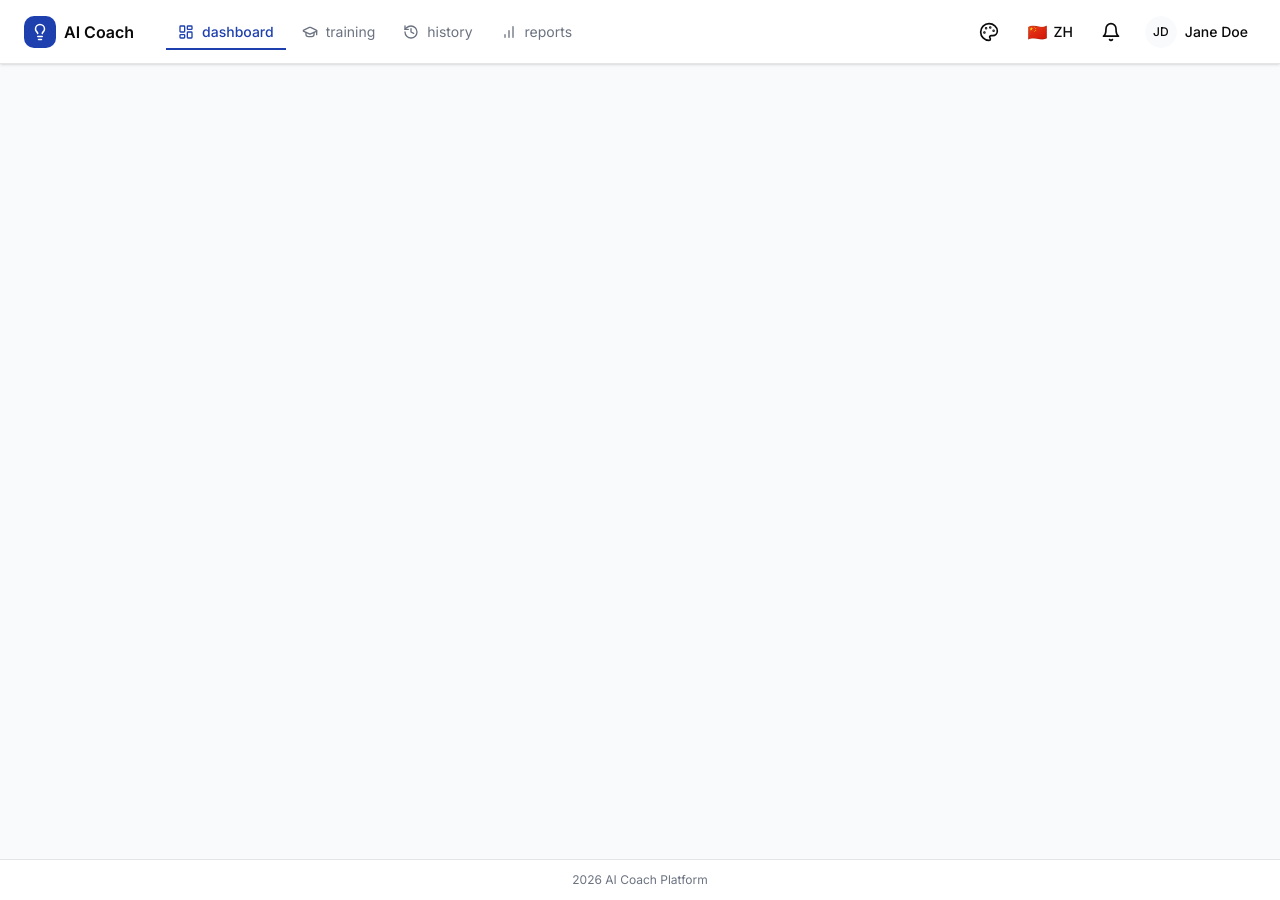
Test: UserLayout › shows user dropdown with profile and logout on avatar click
Click the button "JD Jane Doe" at [1196, 32], box [1137,14,1256,50]
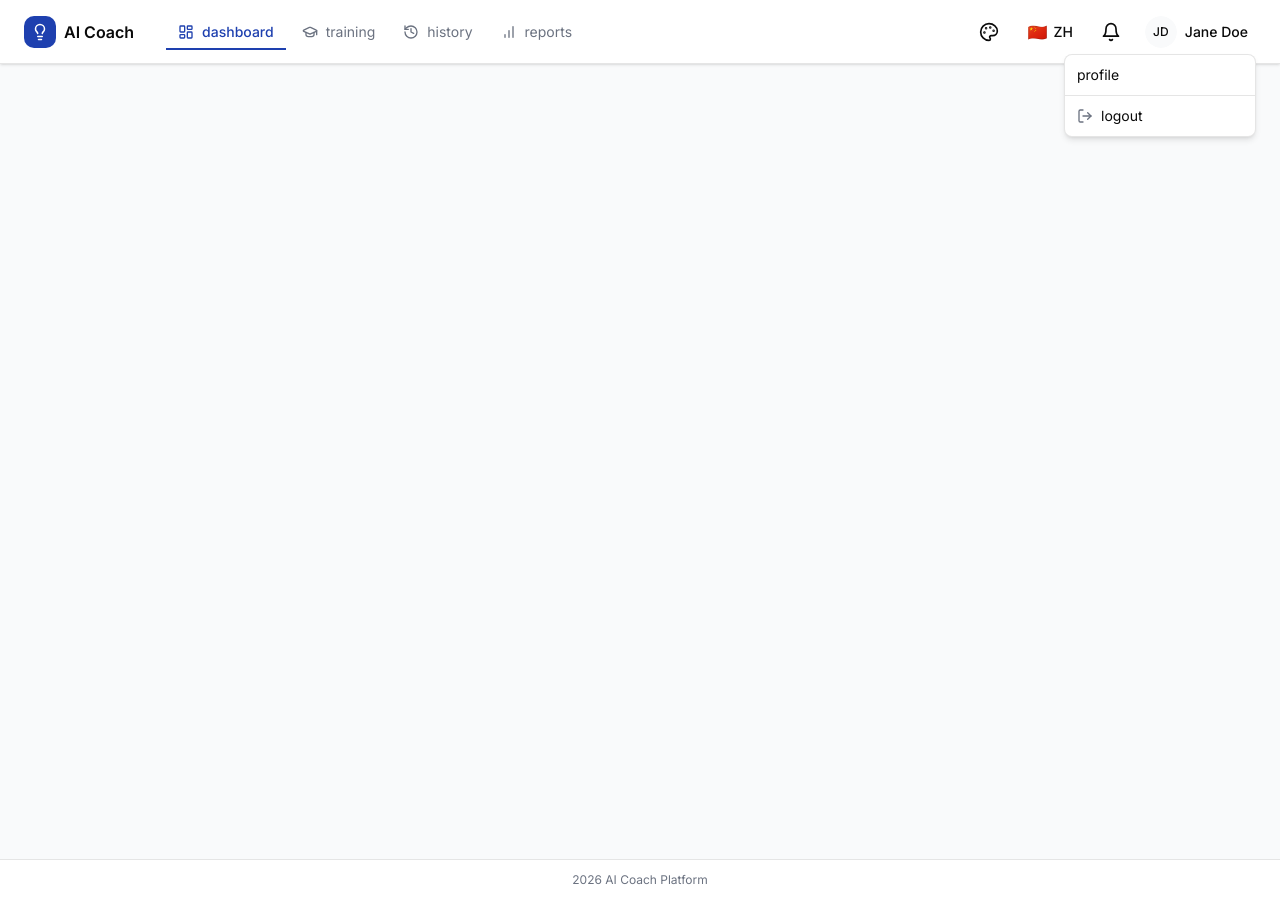
Result: the menu item "profile" is shown at [1077,66,1119,83]
Result: the menu item "logout" is shown at [1077,107,1143,124]
